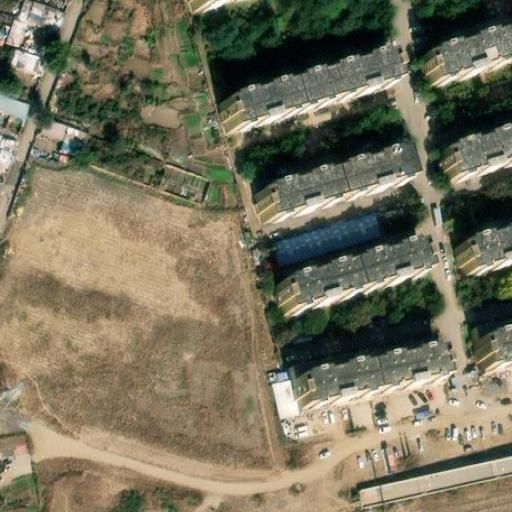building: (353, 448, 512, 510), (280, 47, 393, 114), (276, 211, 385, 266), (267, 264, 347, 318), (415, 38, 496, 91), (250, 175, 330, 228), (339, 242, 418, 295), (322, 152, 401, 205), (436, 132, 512, 185), (215, 79, 289, 133), (297, 360, 377, 409), (371, 343, 449, 392), (449, 225, 512, 278), (267, 370, 302, 421), (42, 119, 82, 159), (9, 46, 46, 76), (488, 27, 512, 68), (0, 432, 28, 458), (8, 20, 32, 49), (511, 331, 512, 334)
